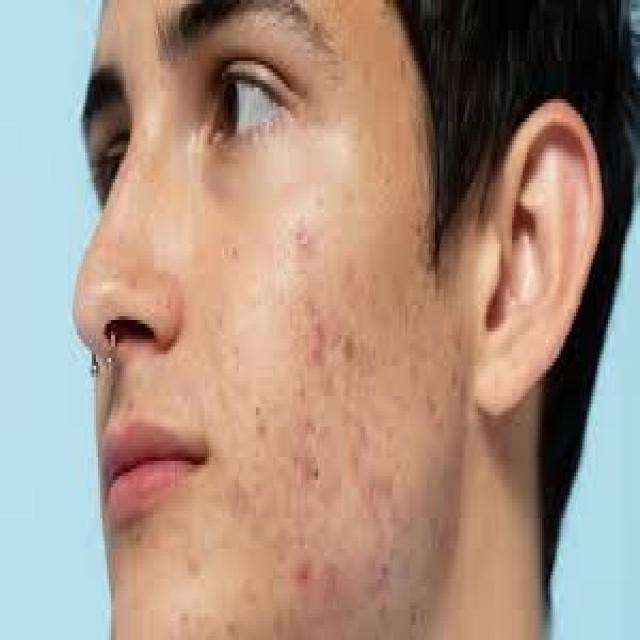pigmentation: (292, 312, 368, 379)
